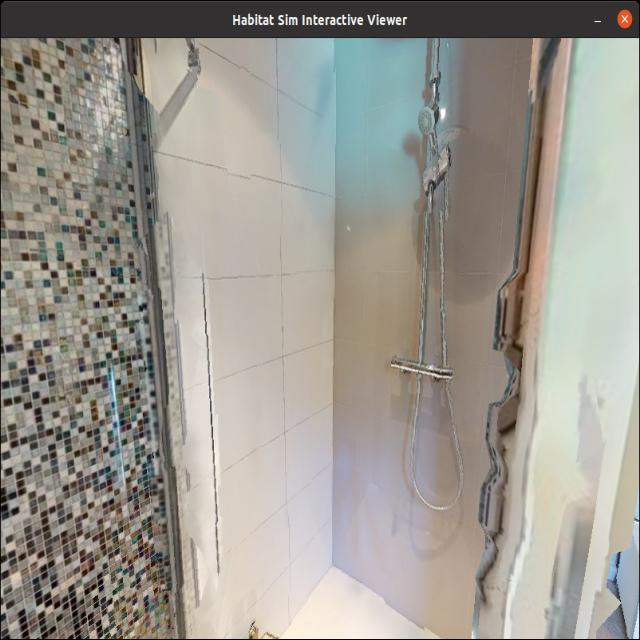shower: (107, 32, 560, 640)
